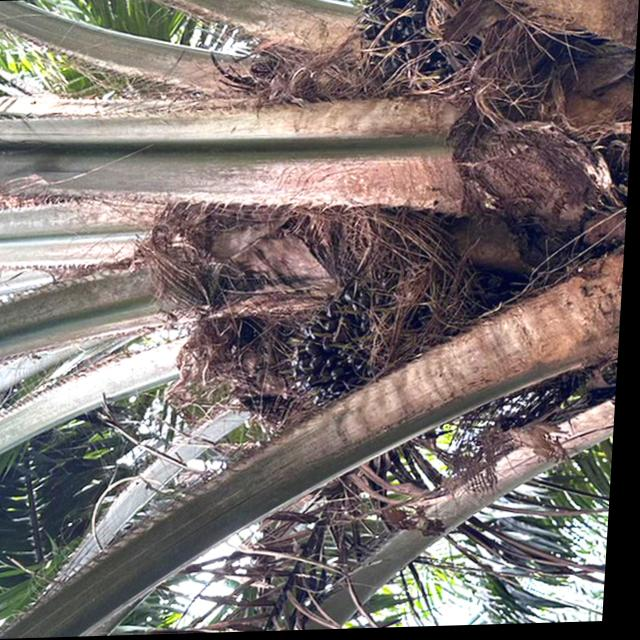ripe: (278, 292, 397, 413), (353, 0, 476, 99)
